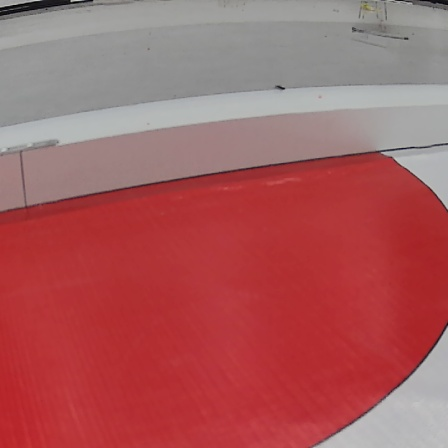red_base: (0, 151, 446, 445)
